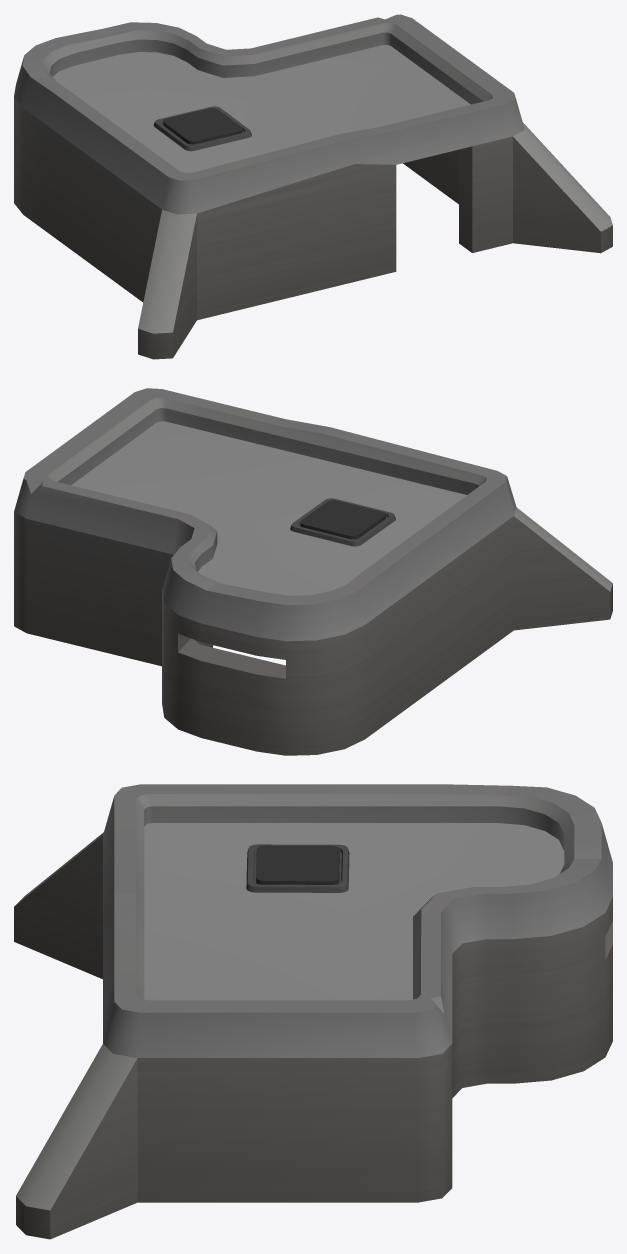
File: Bunker_1_1.fbx
3 views of the same model, one above another, from view 1: azimuth 30°, elevation 25°; view 2: azimuth 150°, elevation 25°; view 3: azimuth 270°, elevation 25° (orthographic). The views are drawn at different scales.
Visible parts, largest first — view 1: Bunker_1_1; view 2: Bunker_1_1; view 3: Bunker_1_1.
Boxes of the visible parts, x1=… form: Bunker_1_1: x1=14, y1=14, x2=612, y2=359; Bunker_1_1: x1=14, y1=388, x2=612, y2=755; Bunker_1_1: x1=14, y1=784, x2=612, y2=1239.
Bounding box in the file's own units: 914 × 258 × 741.
